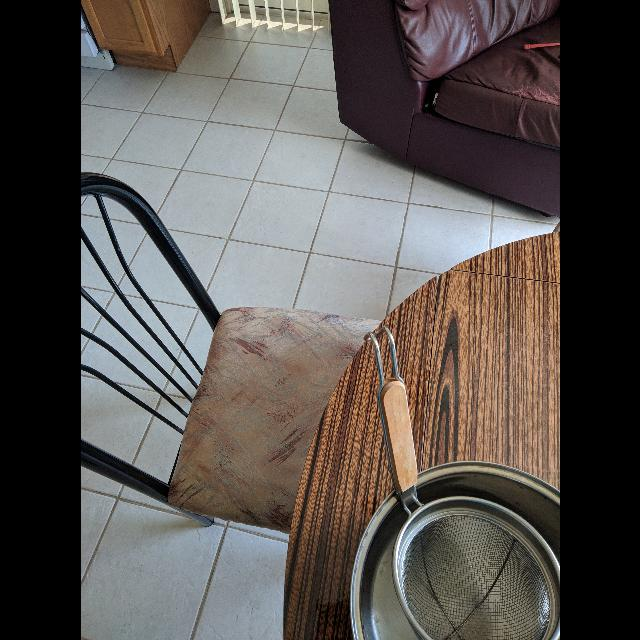Handle: (359, 324, 436, 523)
Strainer: (389, 491, 560, 640)
